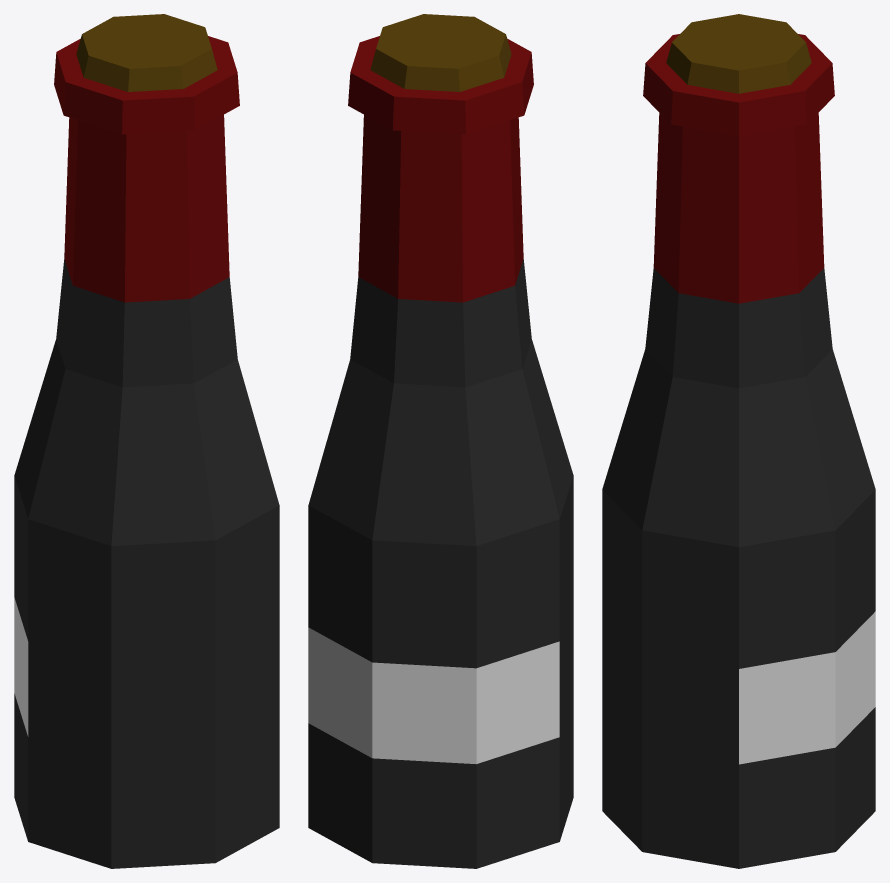
Rendered from Wine Bottle.fbx.
3 views of the same model, side by side, from view 1: azimuth 30°, elevation 25°; view 2: azimuth 150°, elevation 25°; view 3: azimuth 270°, elevation 25° (orthographic).
Visible parts, largest first — view 1: Cylinder; view 2: Cylinder; view 3: Cylinder.
Boxes of the visible parts, x1,y1,x2,y2 form: Cylinder: [14, 14, 279, 868]; Cylinder: [308, 14, 573, 868]; Cylinder: [602, 14, 875, 868].
Bounding box in the file's own units: 6.74 × 20.9 × 6.74.
